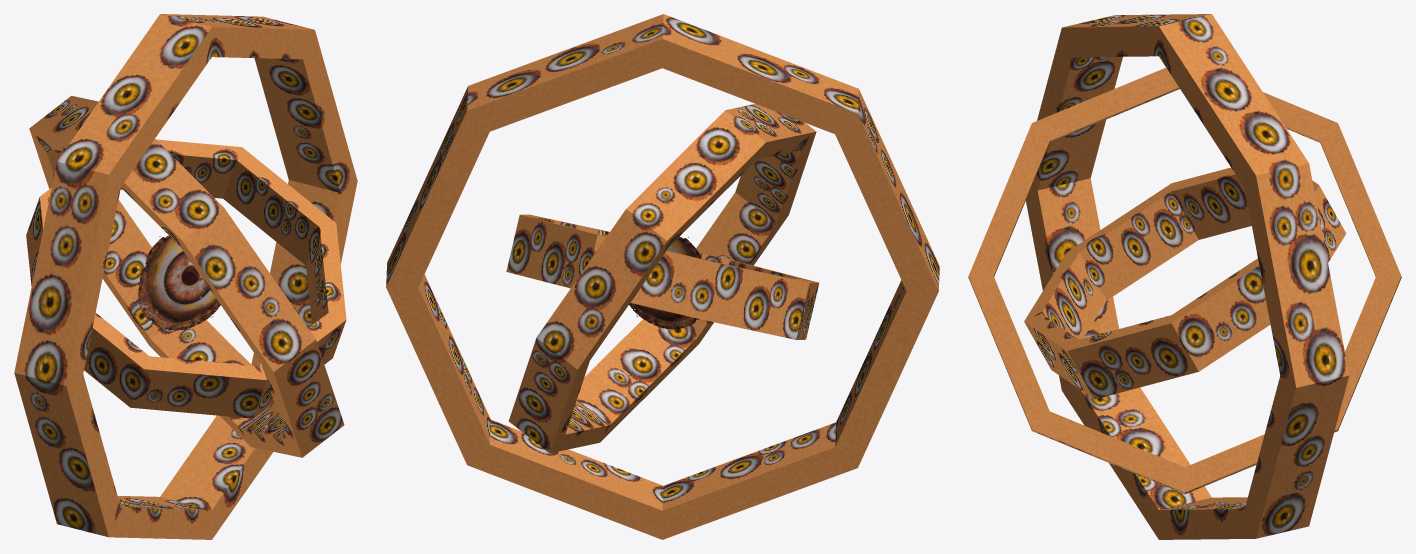
Rendered from ophanim_000004.obj.
The picture shows the model from 3 angles, left to right: view 1: azimuth 30°, elevation 25°; view 2: azimuth 150°, elevation 25°; view 3: azimuth 270°, elevation 25°; orthographic projection. The views are drawn at different scales.
Parts seen in each view (by area): view 1: Ring3, Ring2, Ring1, Eye; view 2: Ring3, Ring2, Ring1, Eye; view 3: Ring3, Ring1, Ring2.
Part boxes in pixels (x1,y1,x2,y2): Ring3: (14,14,357,539); Ring2: (29,96,344,457); Ring1: (26,139,346,418); Eye: (138,236,220,330); Ring3: (386,14,939,539); Ring2: (508,104,816,453); Ring1: (506,214,819,339); Eye: (629,236,701,329); Ring3: (1026,14,1349,539); Ring1: (1024,167,1346,399); Ring2: (968,67,1401,494).
Size of the model in its own units: 0.3213 by 0.3468 by 0.265.
2 materials, 2 textured.
